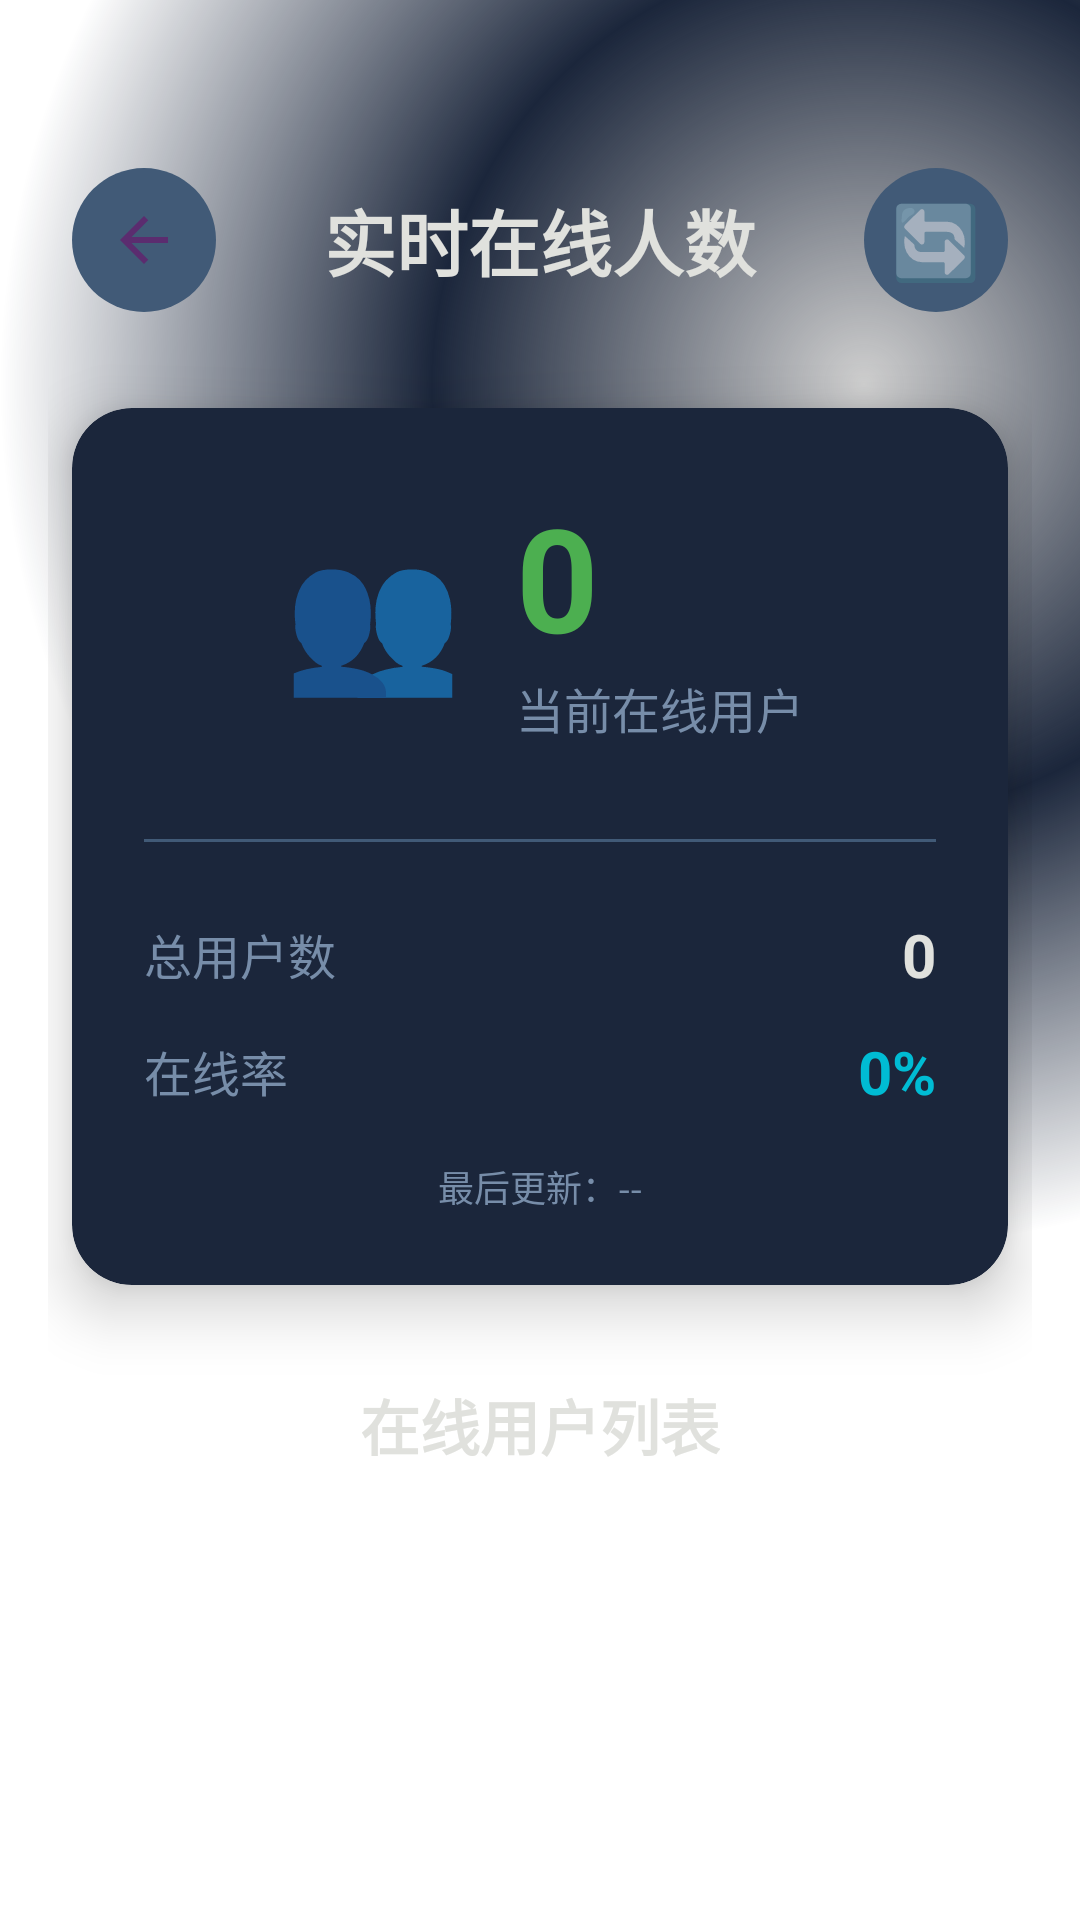

Point at icon controls on the screen. Image size 1080px×1920px, points as [x,y].
返回: [144,240]
